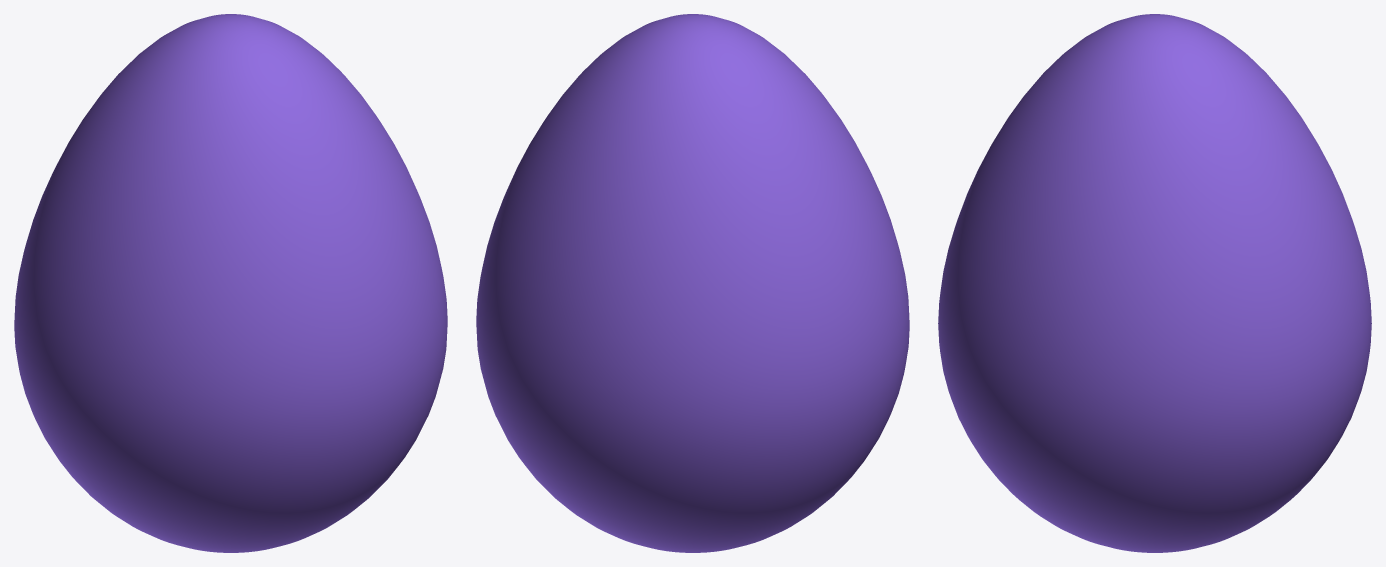
The model's file is shell3.glb.
3 views of the same model, side by side, from view 1: azimuth 30°, elevation 25°; view 2: azimuth 150°, elevation 25°; view 3: azimuth 270°, elevation 25° (orthographic).
Parts seen in each view (by area): view 1: Sphere; view 2: Sphere; view 3: Sphere.
Part boxes in pixels (x1=…): Sphere: x1=14, y1=14, x2=447, y2=552; Sphere: x1=476, y1=14, x2=909, y2=552; Sphere: x1=938, y1=14, x2=1371, y2=552.
Size of the model in its own units: 2 by 2.61 by 2.
